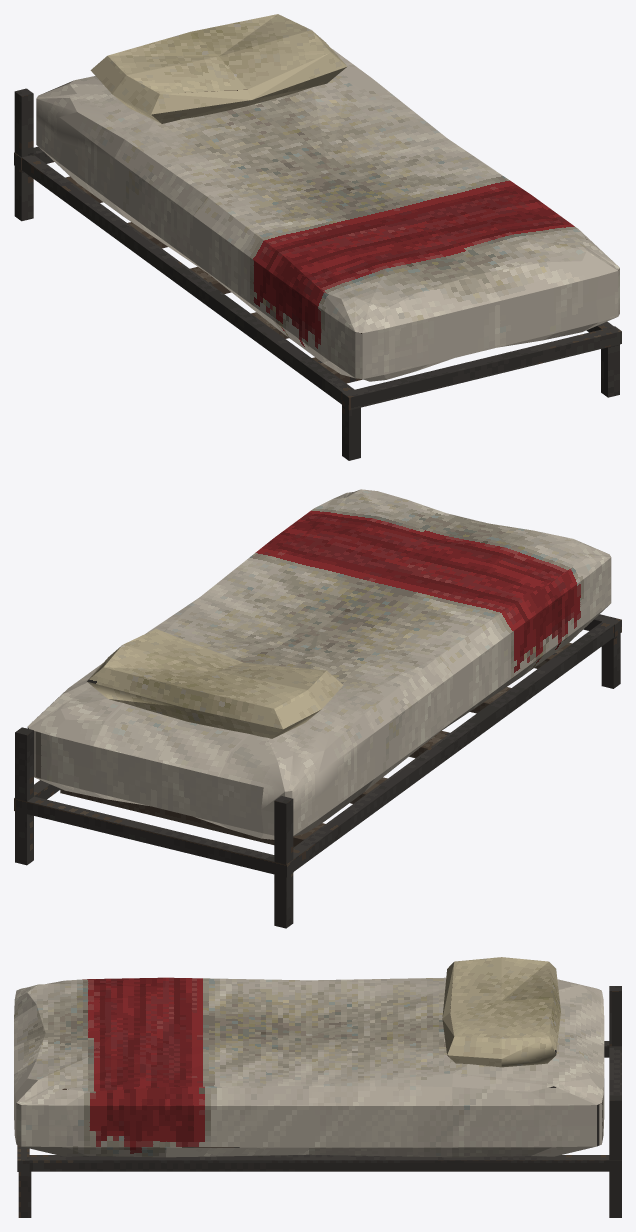
File: dirtybed.red.glb
3 views of the same model, one above another, from view 1: azimuth 30°, elevation 25°; view 2: azimuth 150°, elevation 25°; view 3: azimuth 270°, elevation 25° (orthographic). The views are drawn at different scales.
Visible parts, largest first — view 1: Mattress, Frame, Pillow, Slats; view 2: Mattress, Frame, Pillow, Slats; view 3: Mattress, Frame, Pillow.
Part boxes in pixels (<box>): Mattress: <box>36,48,619,381</box>; Frame: <box>14,88,621,460</box>; Pillow: <box>90,14,347,123</box>; Slats: <box>65,176,362,383</box>; Mattress: <box>27,489,611,839</box>; Frame: <box>14,614,621,928</box>; Pillow: <box>87,629,343,738</box>; Slats: <box>60,642,572,847</box>; Mattress: <box>14,977,604,1157</box>; Frame: <box>17,986,621,1217</box>; Pillow: <box>442,957,560,1067</box>.
Bounding box in the file's own units: 1.59 × 0.9891 × 3.38.
1 material, 1 textured.
